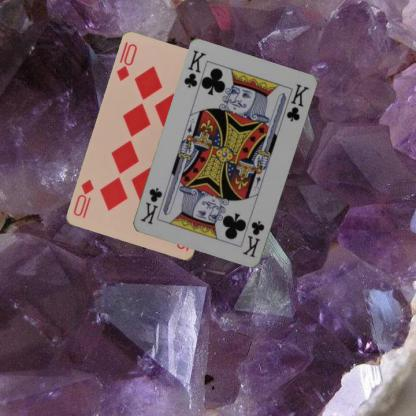10d: (113, 41, 138, 83)
Kc: (182, 48, 208, 90), (240, 218, 266, 259)
